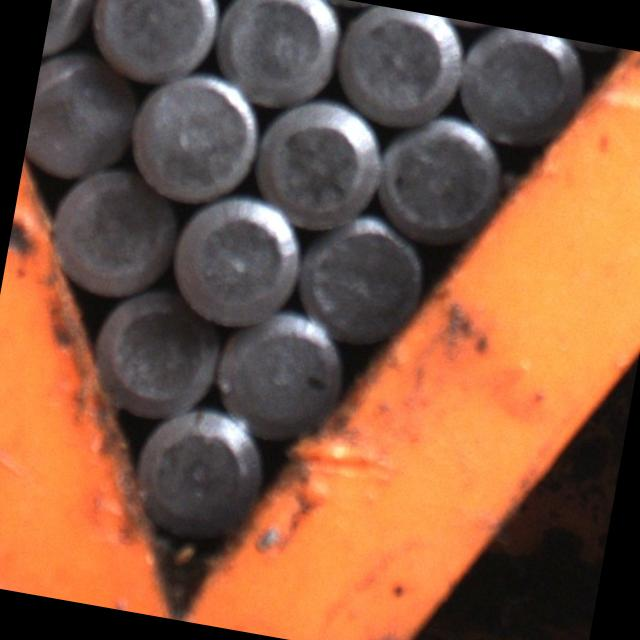tool: (38, 152, 188, 306), (118, 60, 268, 212), (203, 297, 352, 450), (125, 397, 273, 548), (160, 185, 308, 335), (242, 87, 391, 235), (86, 276, 232, 424), (290, 203, 434, 352), (367, 104, 511, 250), (446, 21, 590, 155), (328, 0, 470, 134), (21, 43, 146, 188), (207, 0, 348, 115), (79, 0, 225, 92)
